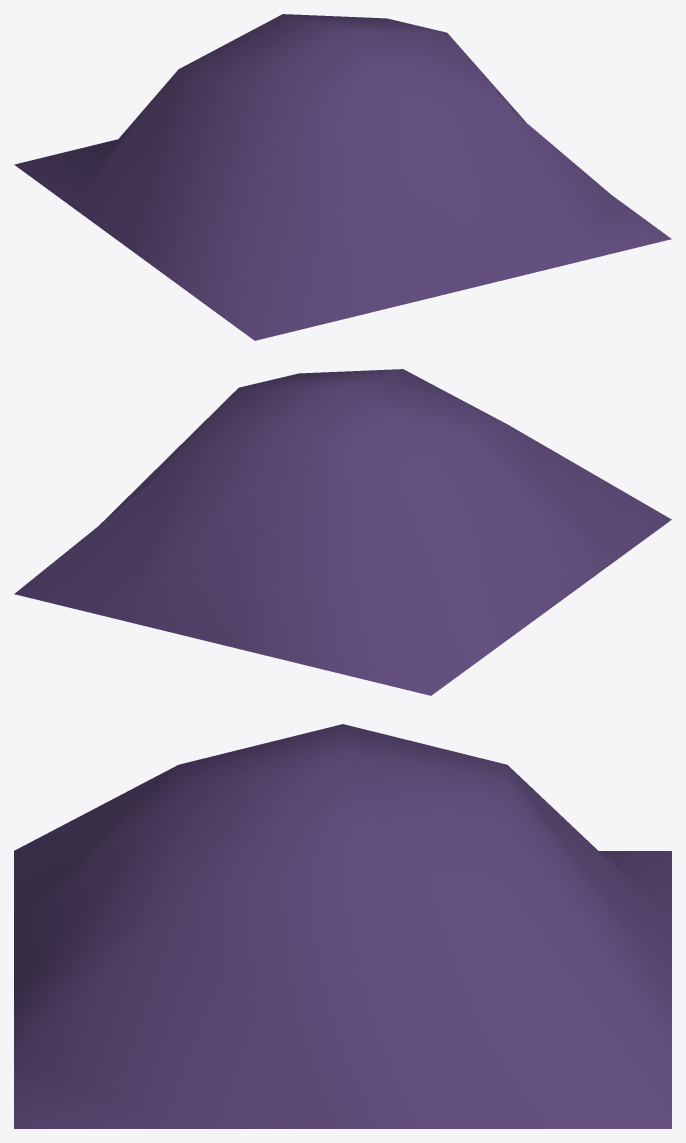
The model's file is sand mound.fbx.
3 renders of one model, top to bottom at view 1: azimuth 30°, elevation 25°; view 2: azimuth 150°, elevation 25°; view 3: azimuth 270°, elevation 25°, orthographic. The views are drawn at different scales.
Visible parts, largest first — view 1: mound; view 2: mound; view 3: mound.
Boxes of the visible parts, <box> form: mound: <box>14,14,671,340</box>; mound: <box>14,369,671,695</box>; mound: <box>14,724,671,1128</box>.
Bounding box in the file's own units: 60.49 × 23.27 × 60.49.
